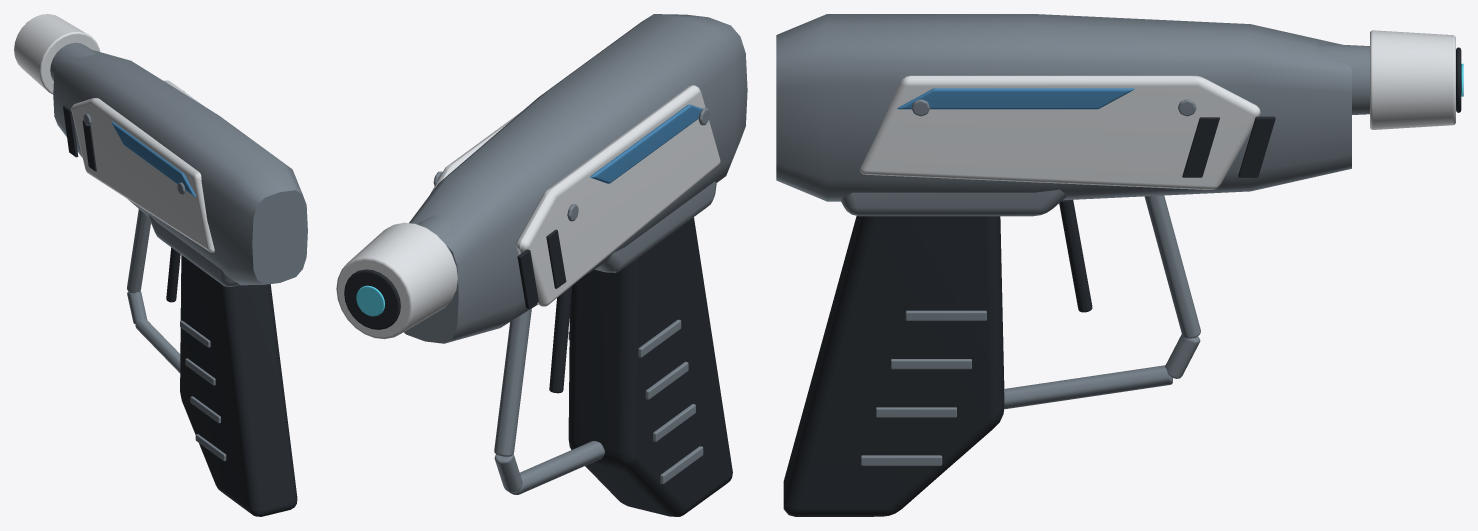
Rendered from blaster-b-mk4.glb.
3 views of the same model, side by side, from view 1: azimuth 30°, elevation 25°; view 2: azimuth 150°, elevation 25°; view 3: azimuth 270°, elevation 25° (orthographic). The views are drawn at different scales.
Parts seen in each view (by area): view 1: Pink War IV / r9; view 2: Pink War IV / r9; view 3: Pink War IV / r9.
Part boxes in pixels (x1=…): Pink War IV / r9: x1=14, y1=14, x2=307, y2=516; Pink War IV / r9: x1=336, y1=14, x2=747, y2=516; Pink War IV / r9: x1=776, y1=14, x2=1463, y2=516.
Size of the model in its own units: 0.0636 by 0.209 by 0.271.
